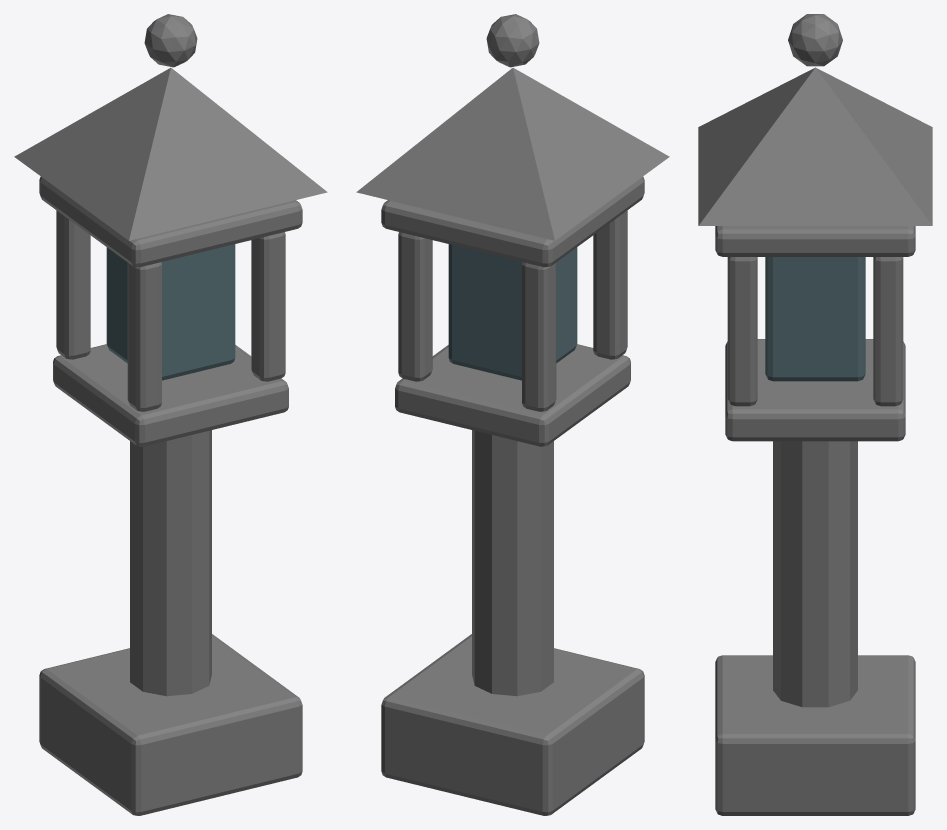
The model's file is stone-lantern.glb.
The picture shows the model from 3 angles, left to right: view 1: azimuth 30°, elevation 25°; view 2: azimuth 150°, elevation 25°; view 3: azimuth 270°, elevation 25°; orthographic projection.
Parts seen in each view (by area): view 1: base, roof, pillar, shelf, firecore, roofslab, post, post.002, post.001, jewel; view 2: base, roof, pillar, shelf, firecore, roofslab, post.001, post.003, post, jewel; view 3: roof, base, pillar, firecore, shelf, roofslab, post.002, post.003, jewel.
Boxes of the visible parts, x1,y1,x2,y2 form: base: [39, 634, 302, 815]; roof: [14, 67, 327, 240]; pillar: [130, 430, 211, 696]; shelf: [53, 344, 288, 446]; firecore: [106, 244, 235, 380]; roofslab: [39, 176, 302, 267]; post: [127, 262, 161, 411]; post.002: [251, 232, 285, 381]; post.001: [56, 210, 90, 359]; jewel: [144, 14, 197, 67]; base: [381, 634, 644, 815]; roof: [356, 67, 669, 240]; pillar: [472, 430, 553, 696]; shelf: [395, 344, 630, 446]; firecore: [448, 244, 577, 380]; roofslab: [381, 176, 644, 267]; post.001: [522, 262, 556, 411]; post.003: [398, 232, 432, 381]; post: [593, 210, 627, 359]; jewel: [486, 14, 539, 67]; roof: [698, 67, 932, 225]; base: [715, 655, 915, 815]; pillar: [773, 441, 857, 707]; firecore: [765, 257, 865, 381]; shelf: [725, 339, 905, 441]; roofslab: [715, 226, 915, 256]; post.002: [727, 257, 757, 406]; post.003: [873, 257, 903, 406]; jewel: [788, 14, 842, 66].
Size of the model in its own units: 0.4667 by 1.68 by 0.4667.
3 materials, 2 textured.
